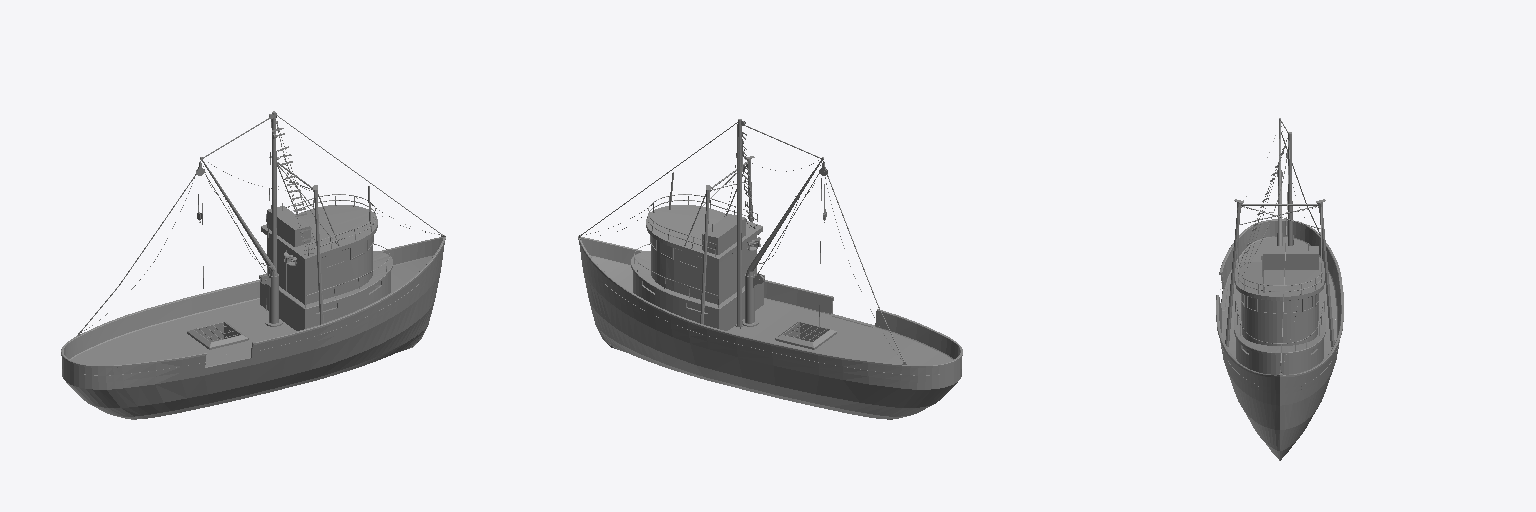
Rendered from boat.obj.
3 views of the same model, side by side, from view 1: azimuth 30°, elevation 25°; view 2: azimuth 150°, elevation 25°; view 3: azimuth 270°, elevation 25° (orthographic).
Visible parts, largest first — view 1: (null); view 2: (null); view 3: (null).
Part boxes in pixels (x1,y1,x2,y2): (null): (61, 111, 445, 419); (null): (578, 119, 962, 419); (null): (1216, 118, 1343, 460).
Bounding box in the file's own units: 1074 × 724 × 313.